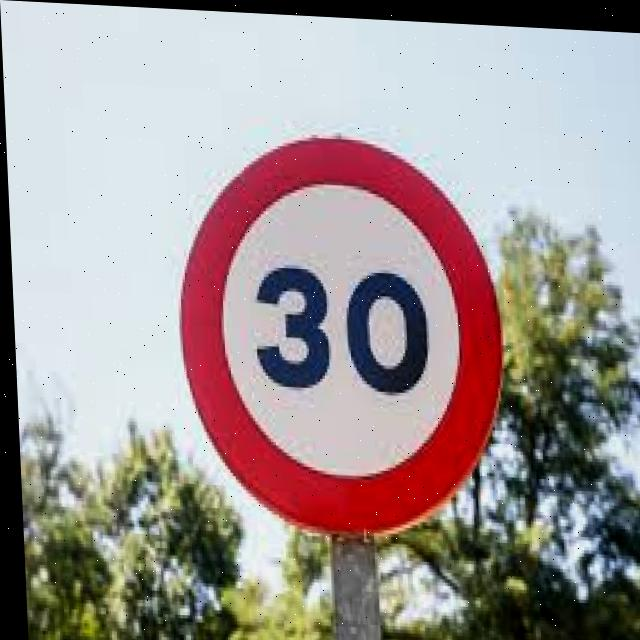Speed limit 30: (165, 120, 511, 542)
